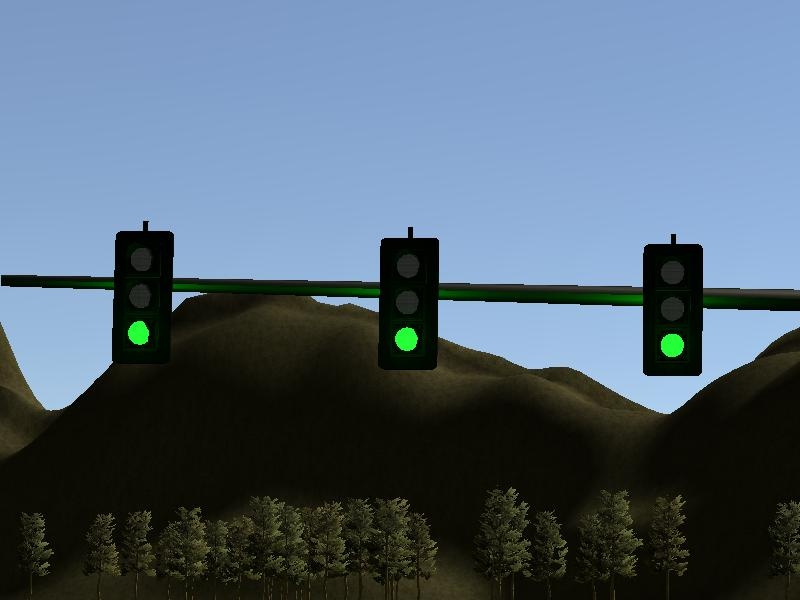Green: (114, 228, 173, 369), (643, 243, 704, 377), (379, 236, 439, 371)
